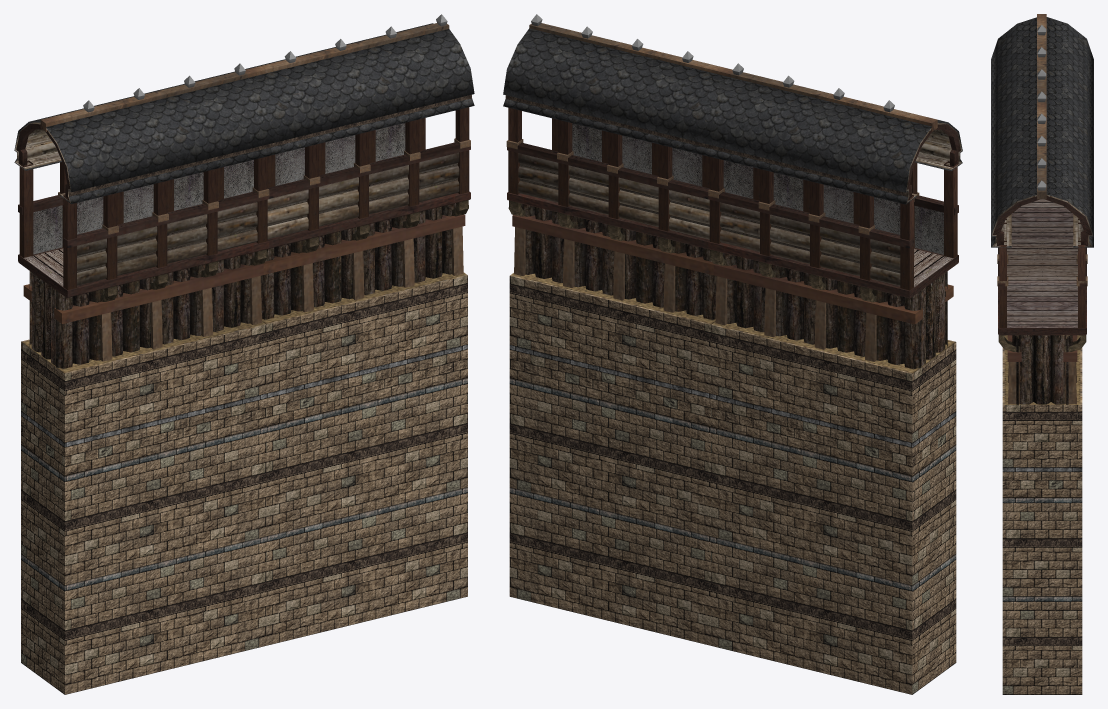
Rendered from s_mauryas_wall_medium.glb.
3 renders of one model, left to right at view 1: azimuth 30°, elevation 25°; view 2: azimuth 150°, elevation 25°; view 3: azimuth 270°, elevation 25°, orthographic. The views are drawn at different scales.
Visible parts, largest first — view 1: s_mauryas_wall_medium_part0, s_mauryas_wall_medium_part2, s_mauryas_wall_medium_part1; view 2: s_mauryas_wall_medium_part0, s_mauryas_wall_medium_part2, s_mauryas_wall_medium_part1; view 3: s_mauryas_wall_medium_part0, s_mauryas_wall_medium_part2, s_mauryas_wall_medium_part1.
Part boxes in pixels (x1=…): s_mauryas_wall_medium_part0: x1=17, y1=14, x2=471, y2=694; s_mauryas_wall_medium_part2: x1=14, y1=23, x2=474, y2=361; s_mauryas_wall_medium_part1: x1=23, y1=203, x2=456, y2=368; s_mauryas_wall_medium_part0: x1=505, y1=14, x2=960, y2=694; s_mauryas_wall_medium_part2: x1=503, y1=23, x2=962, y2=361; s_mauryas_wall_medium_part1: x1=521, y1=203, x2=953, y2=369; s_mauryas_wall_medium_part0: x1=998, y1=25, x2=1086, y2=694; s_mauryas_wall_medium_part2: x1=991, y1=14, x2=1093, y2=404; s_mauryas_wall_medium_part1: x1=1007, y1=199, x2=1077, y2=404.
Bounding box in the file's own units: 6.02 × 8.11 × 1.47.
3 materials, 3 textured.
